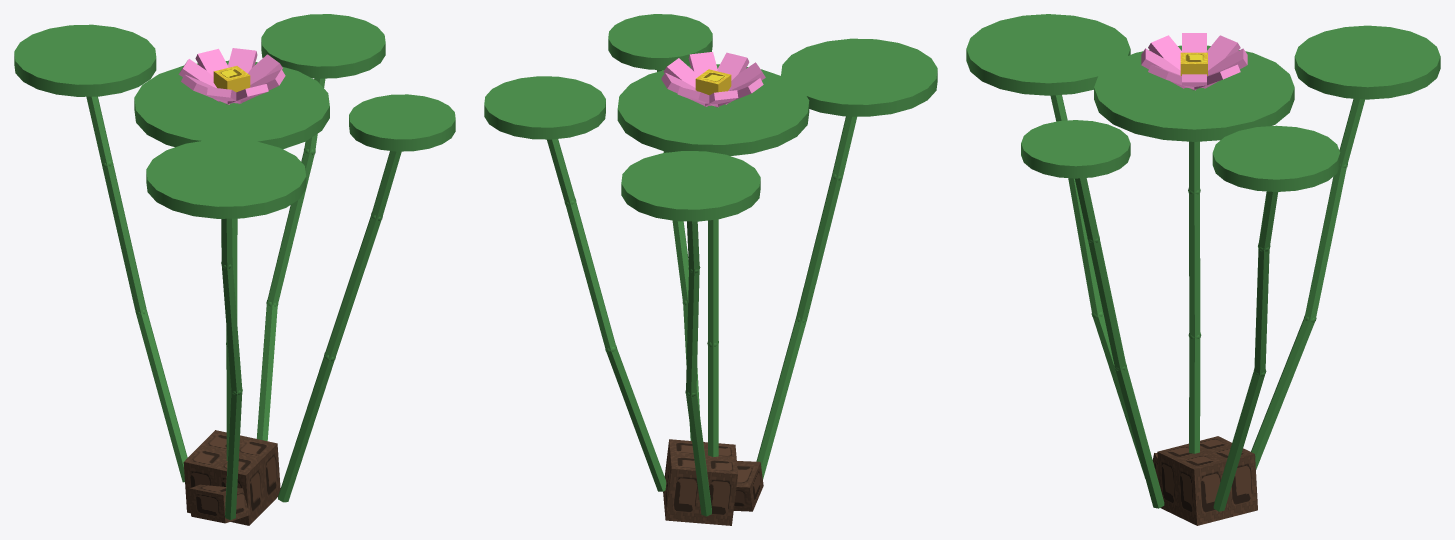
File: LilyPads.glb
3 renders of one model, left to right at view 1: azimuth 30°, elevation 25°; view 2: azimuth 150°, elevation 25°; view 3: azimuth 270°, elevation 25°, orthographic. The views are drawn at different scales.
Visible parts, largest first — view 1: LilyPads; view 2: LilyPads; view 3: LilyPads.
Part boxes in pixels (box(x1,y1,x2,y2)): LilyPads: box(14, 14, 455, 525); LilyPads: box(484, 14, 937, 525); LilyPads: box(966, 14, 1440, 525).
Bounding box in the file's own units: 8.6 × 11 × 10.4.
Materials: 1 (1 with a texture image).
